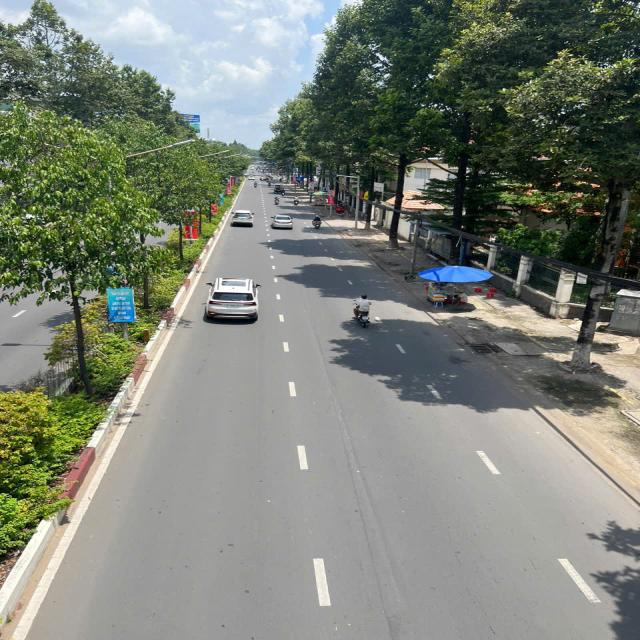car: (202, 273, 265, 326), (227, 207, 258, 230), (270, 211, 296, 232)
motobyte: (348, 290, 376, 330), (309, 212, 325, 232), (272, 194, 283, 207), (292, 194, 302, 207), (252, 178, 260, 190)
